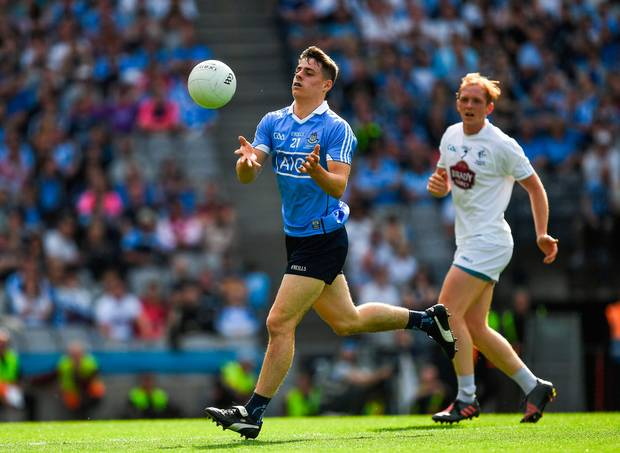ball: (188, 57, 235, 111)
player: (254, 46, 377, 402), (435, 61, 526, 401)
